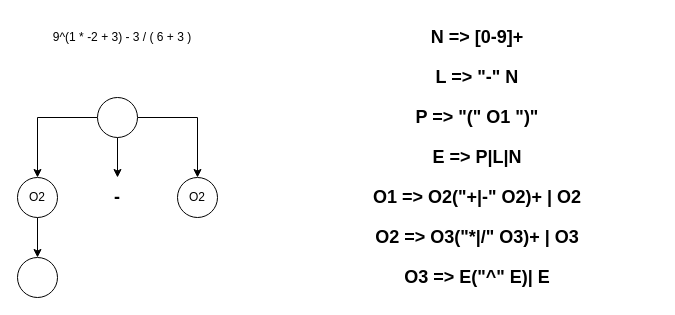
Some shapes in this 675 by 315 pixel diagram are drawn without their labels. Here are the shapes that lost their labels. From the top down, the box of each, then its label:
(96, 96, 138, 138): O1
(16, 256, 58, 298): O3
